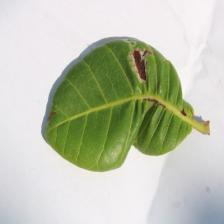leaf miner: (44, 37, 210, 172)
